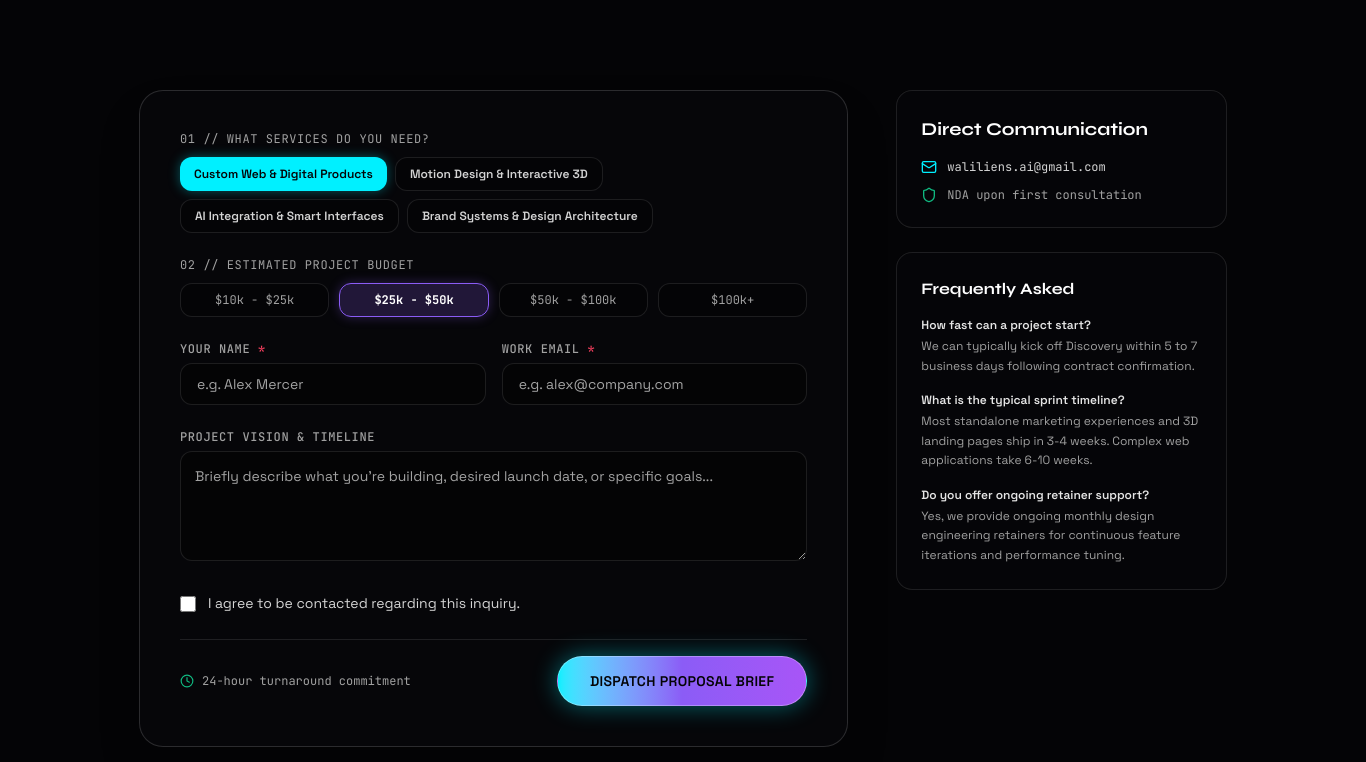
ContactPage Component › displays error message when API fails
(page scrolled)
Type "Alex Morgan" into the field with placeholder "e.g. Alex Mercer". click: (333, 384)
box: [180, 363, 486, 405]
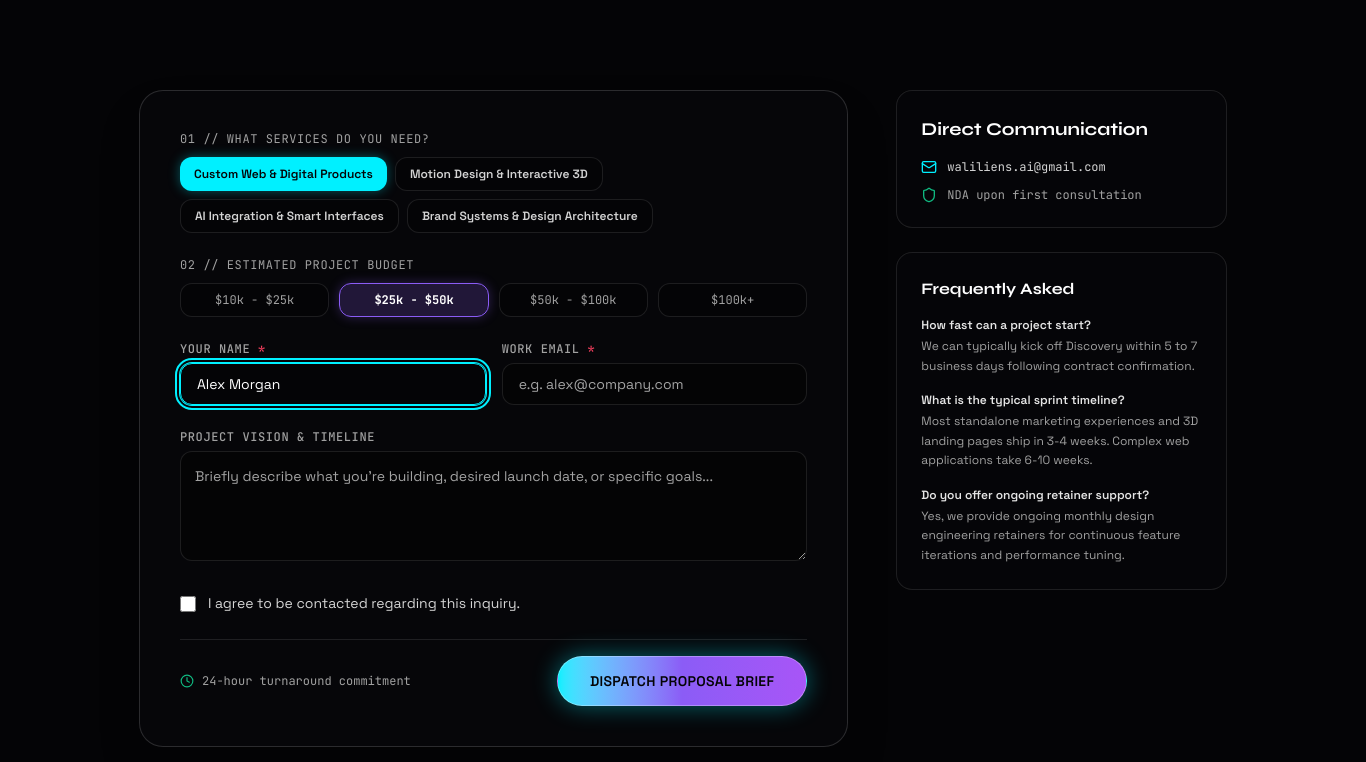
Type "alex@acme.corp" into the field with placeholder "e.g. alex@company.com". click: (655, 384)
box: [502, 363, 807, 405]
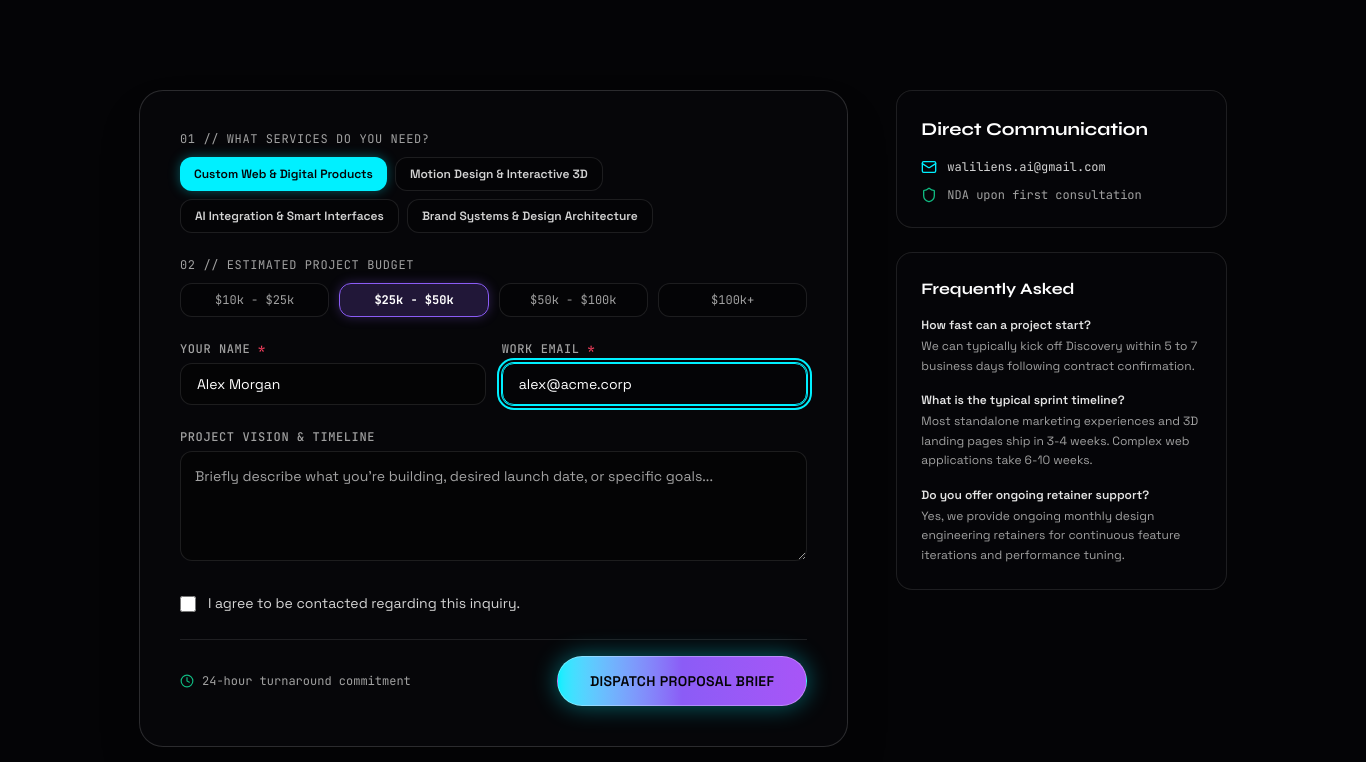
Type "We need an urgent project quote." into the text box with placeholder "Briefly describe what you're building". click: (494, 506)
box: [180, 451, 807, 561]
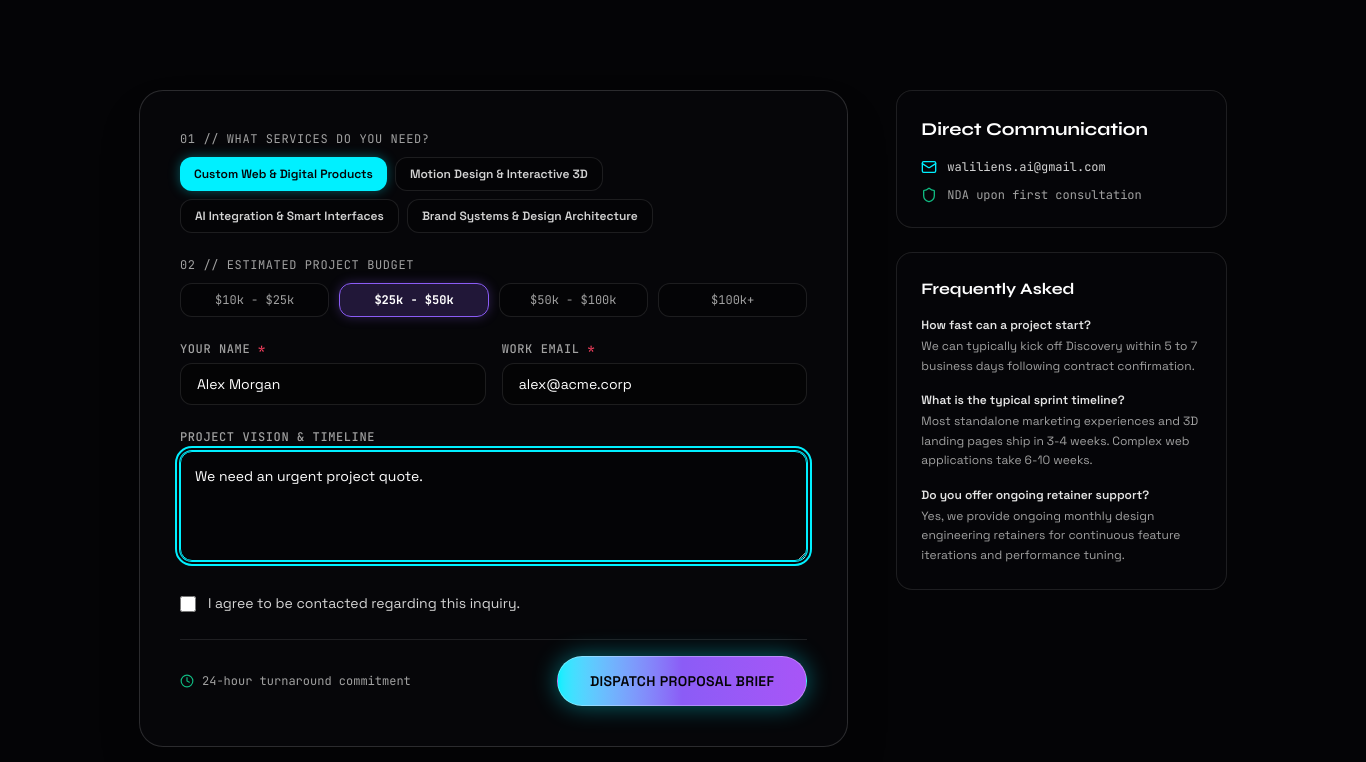
Click the checkbox labelled "I agree to be contacted regarding this inquiry.". click: (188, 604)
box: [180, 596, 196, 612]
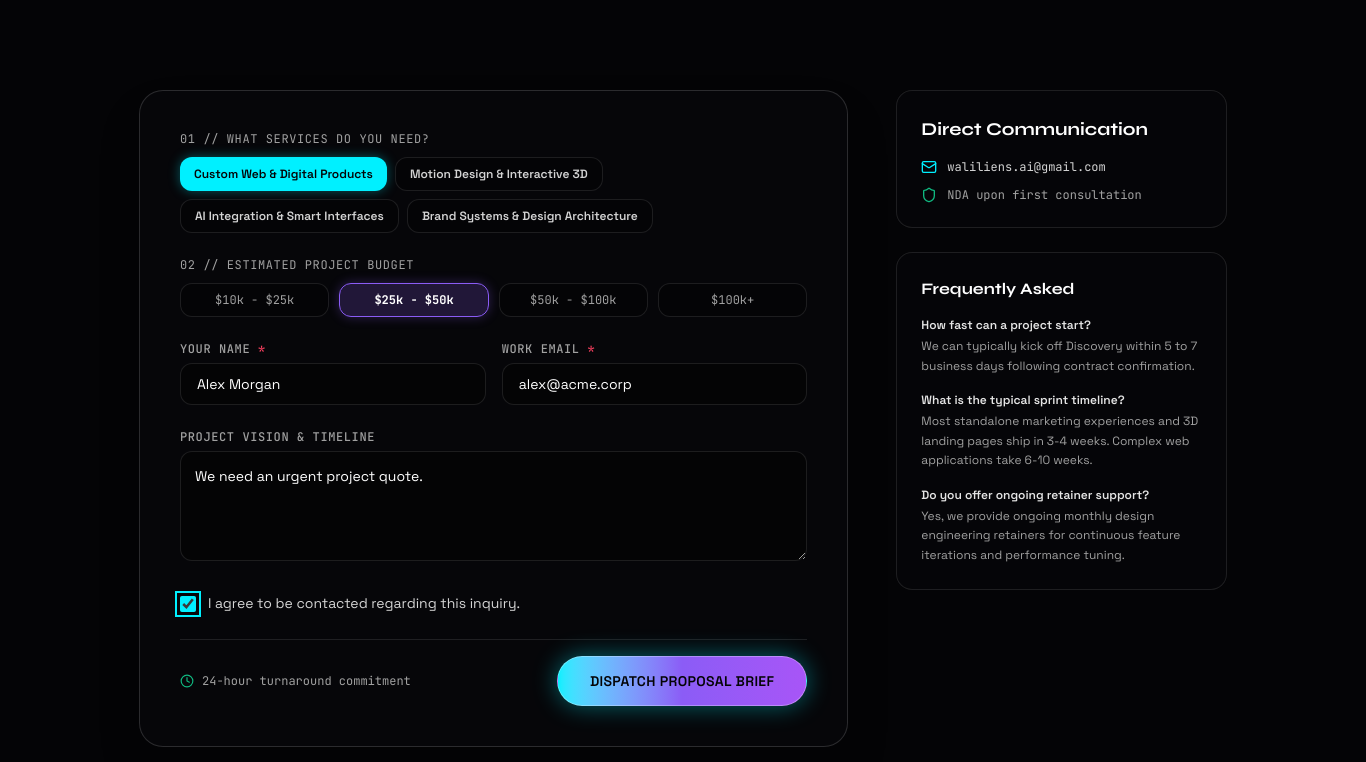
Click the button "DISPATCH PROPOSAL BRIEF". click: (682, 681)
box: [557, 656, 807, 706]
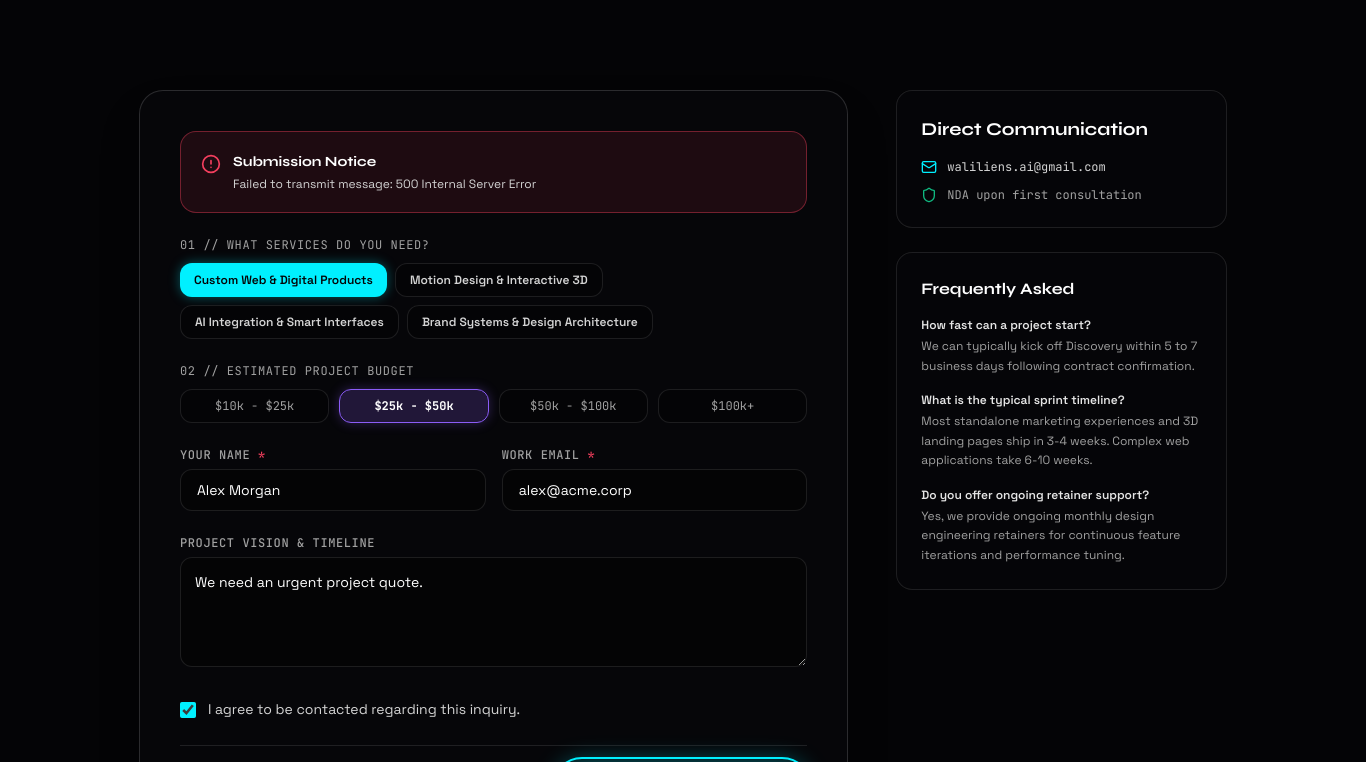
Check: the heading "Submission Notice" is shown, box [233, 153, 376, 170]
